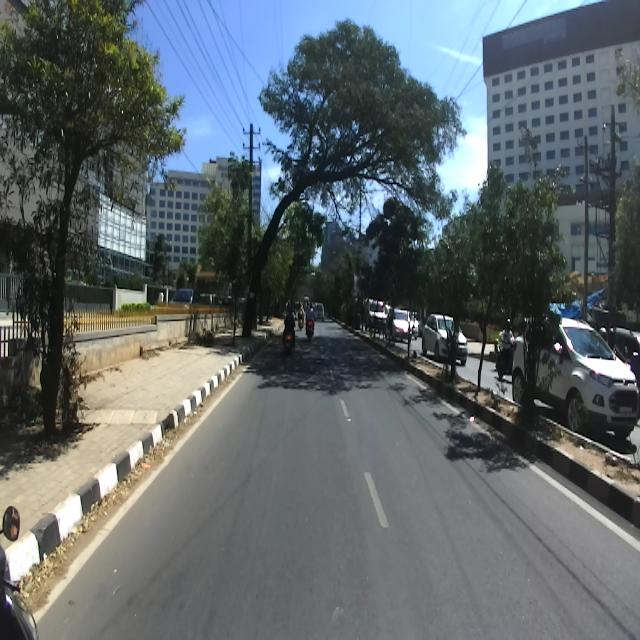tree ahead at: (7, 0, 190, 428), (234, 15, 455, 334)
